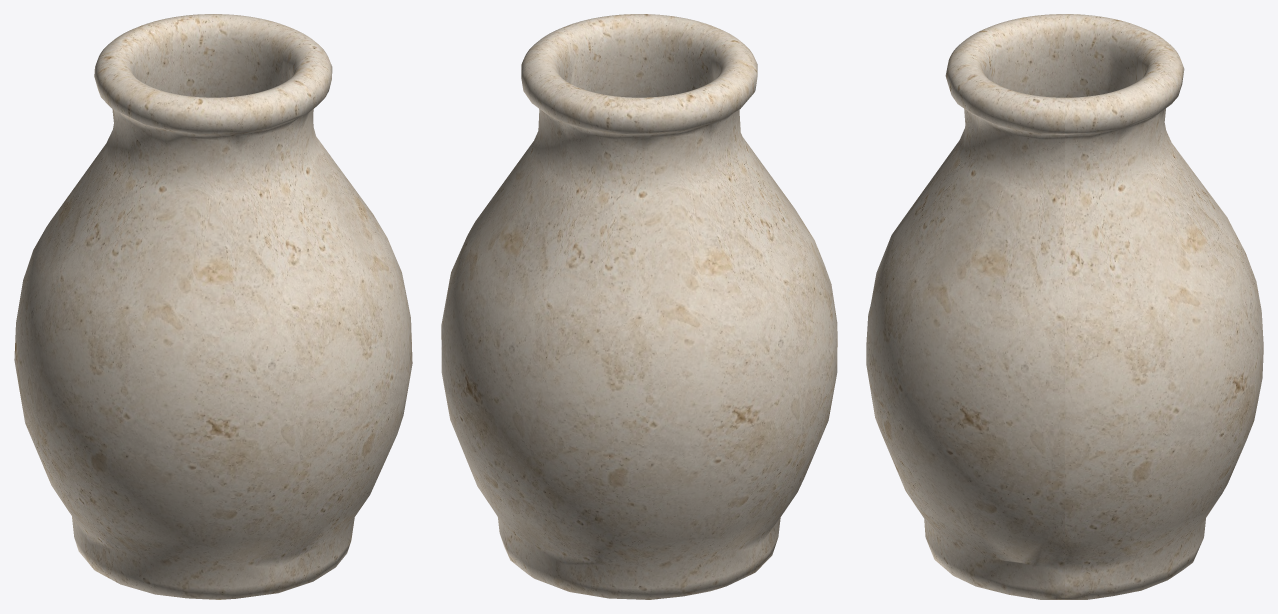
Rendered from boop-vase-small-white-detail.glb.
The picture shows the model from 3 angles, left to right: view 1: azimuth 30°, elevation 25°; view 2: azimuth 150°, elevation 25°; view 3: azimuth 270°, elevation 25°; orthographic projection.
Parts seen in each view (by area): view 1: boop-vase-small-white-detail; view 2: boop-vase-small-white-detail; view 3: boop-vase-small-white-detail.
Boxes of the visible parts, box(x1,y1,x2,y2) form: boop-vase-small-white-detail: box(14, 14, 412, 599); boop-vase-small-white-detail: box(441, 14, 837, 599); boop-vase-small-white-detail: box(866, 14, 1263, 599).
Bounding box in the file's own units: 0.0167 × 0.0226 × 0.0167.
Materials: 1 (1 with a texture image).
